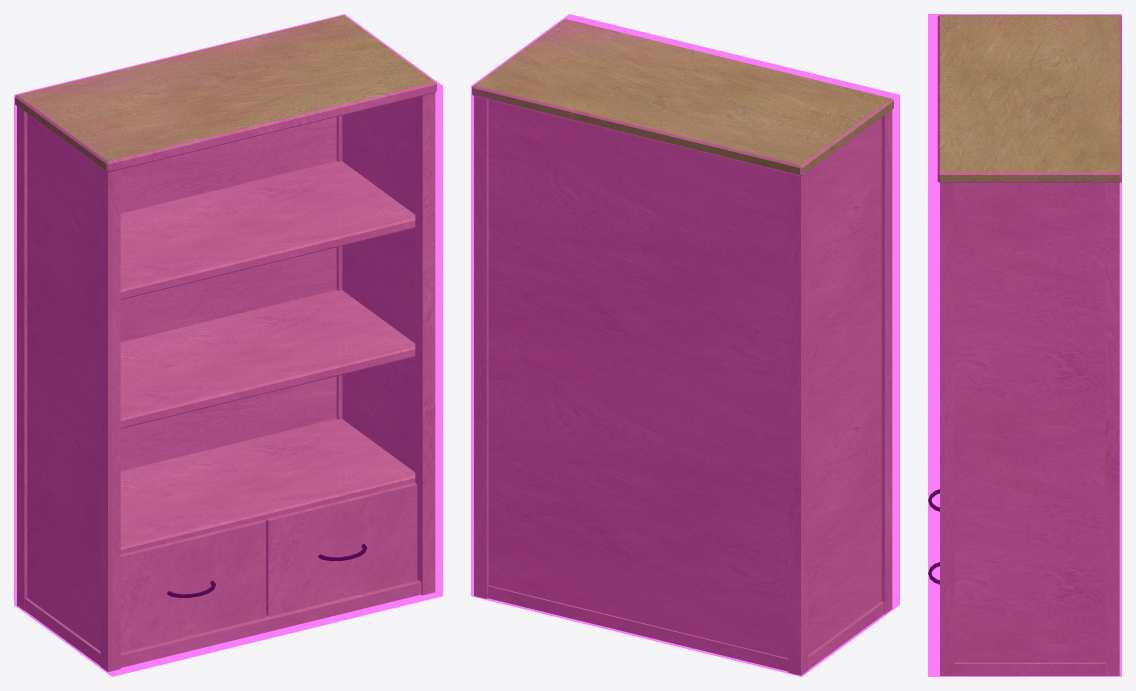
Rendered from bookshelf_B.fbx.
The picture shows the model from 3 angles, left to right: view 1: azimuth 30°, elevation 25°; view 2: azimuth 150°, elevation 25°; view 3: azimuth 270°, elevation 25°; orthographic projection.
Visible parts, largest first — view 1: bookshelf_B, boundingbox; view 2: bookshelf_B, boundingbox; view 3: bookshelf_B, boundingbox.
Part boxes in pixels (x1,y1,x2,y2): bookshelf_B: [15, 15, 436, 671]; boundingbox: [14, 14, 442, 676]; bookshelf_B: [472, 19, 893, 675]; boundingbox: [471, 14, 899, 676]; bookshelf_B: [928, 15, 1121, 675]; boundingbox: [928, 14, 1121, 676].
Bounding box in the file's own units: 80.59 × 119 × 41.44.
3 materials, 1 textured.
